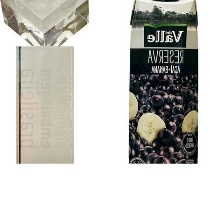carton: (114, 0, 206, 164)
